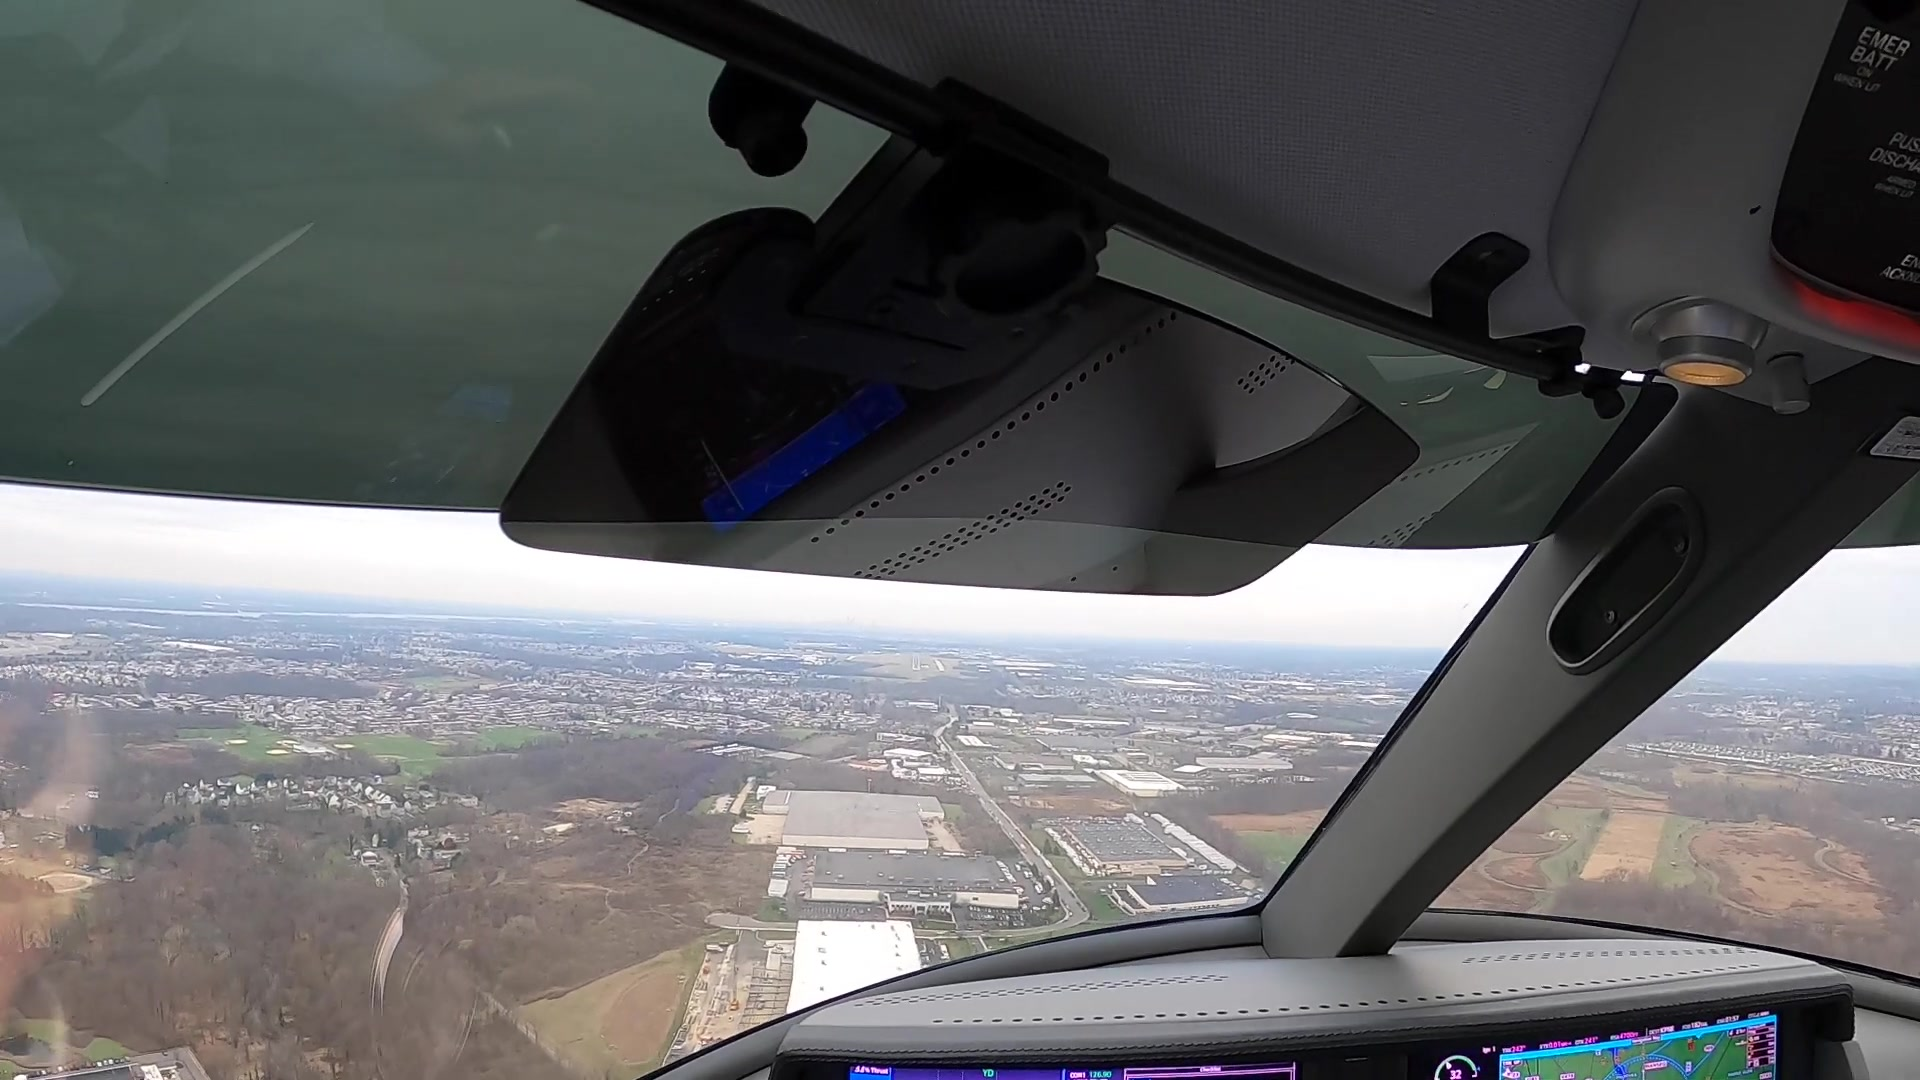runway: (909, 651, 923, 673)
